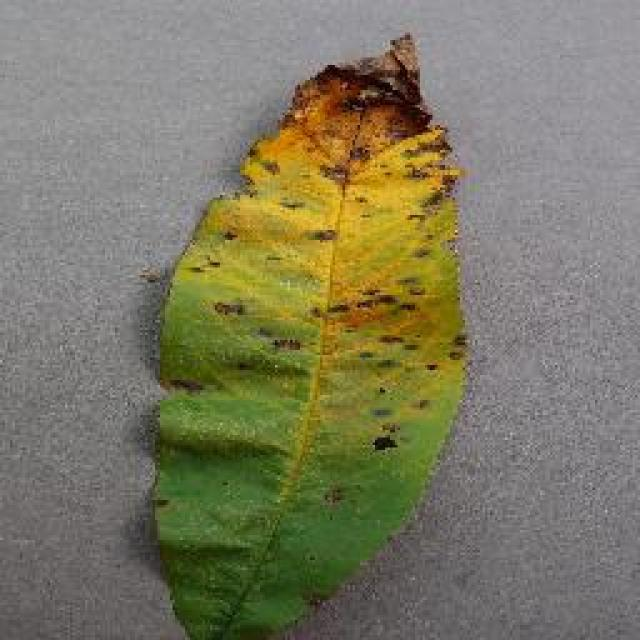Peach_Bacterial_Spot: (198, 66, 490, 412)
